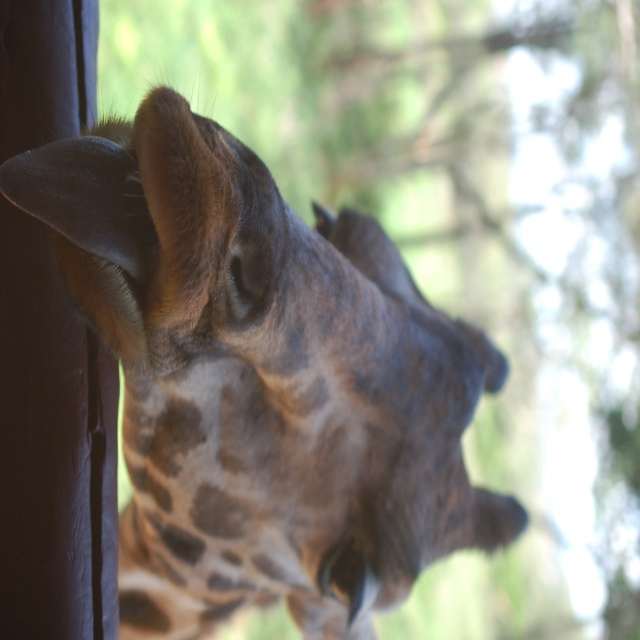Giraffe: (16, 97, 516, 640)
